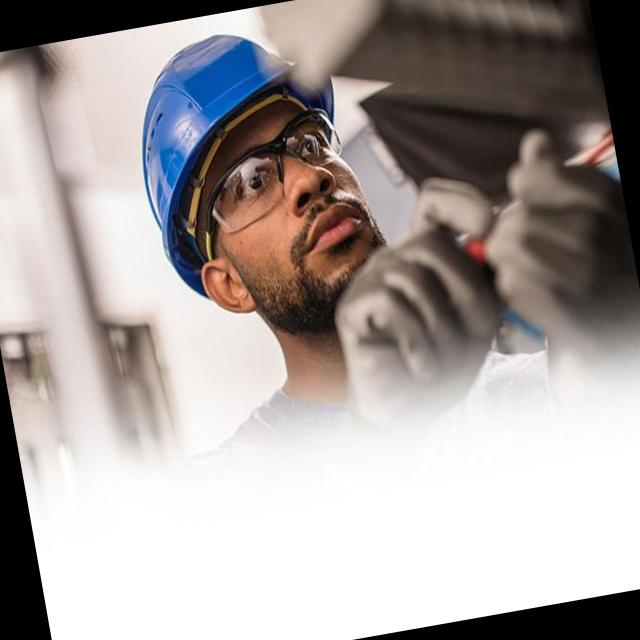Gloves: (296, 125, 534, 445), (480, 105, 640, 362)
Helmet: (113, 18, 350, 240)
